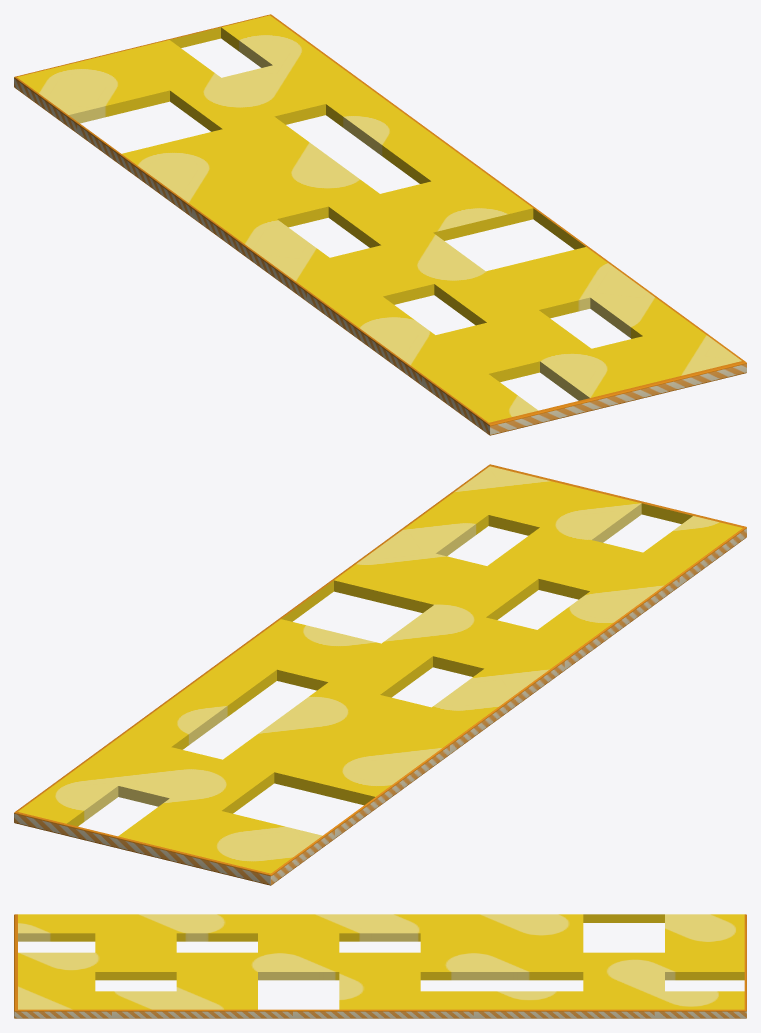
File: PLF0110033.fbx
The picture shows the model from 3 angles, top to bottom: view 1: azimuth 30°, elevation 25°; view 2: azimuth 150°, elevation 25°; view 3: azimuth 270°, elevation 25°; orthographic projection. The views are drawn at different scales.
Parts seen in each view (by area): view 1: smPLF0110033; view 2: smPLF0110033; view 3: smPLF0110033.
Part boxes in pixels (left/top/right/bottom): smPLF0110033: left=14, top=14, right=746, bottom=435; smPLF0110033: left=14, top=464, right=746, bottom=885; smPLF0110033: left=14, top=914, right=746, bottom=1018.
Size of the model in its own units: 512 by 21.22 by 1639.
Materials: 1 (1 with a texture image).
